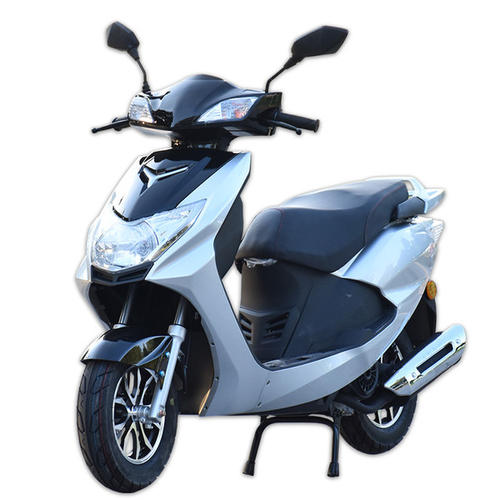motor: (72, 53, 455, 485)
